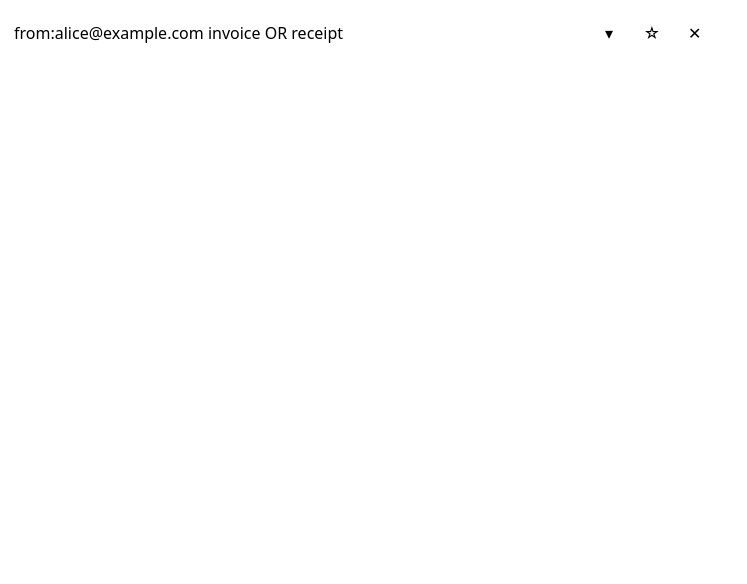
search-options form › opens in the page, labelled, focused on the first field, pre-filled from the query
Click the button "▾" at (609, 34), box left=590, top=14, right=628, bottom=53
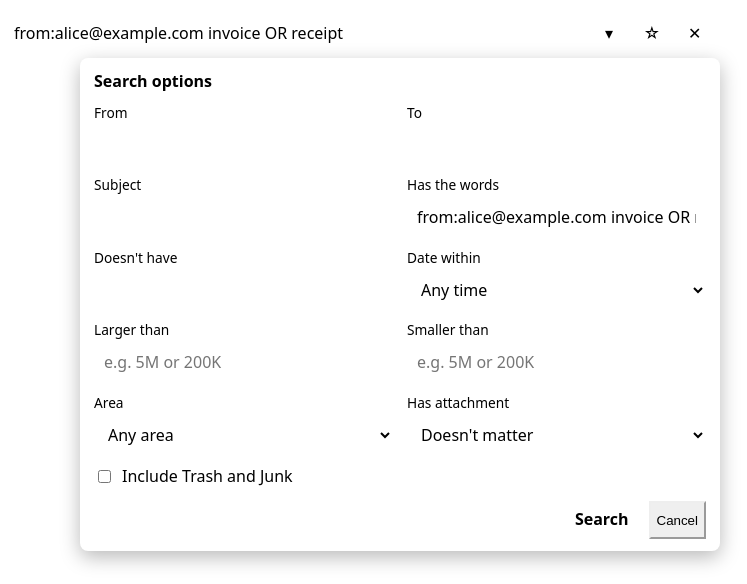
Result: the form with class "search-options" is shown
Result: the heading "Search options" is shown at left=94, top=70, right=212, bottom=92
